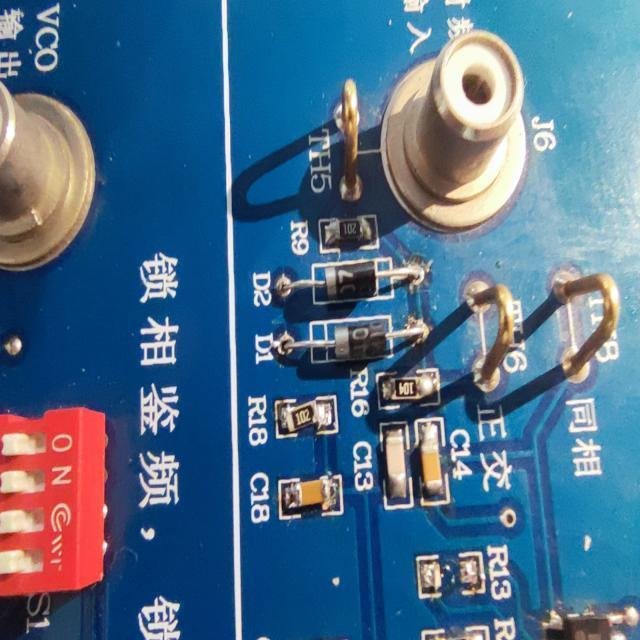Missing component: (406, 536, 520, 606)
